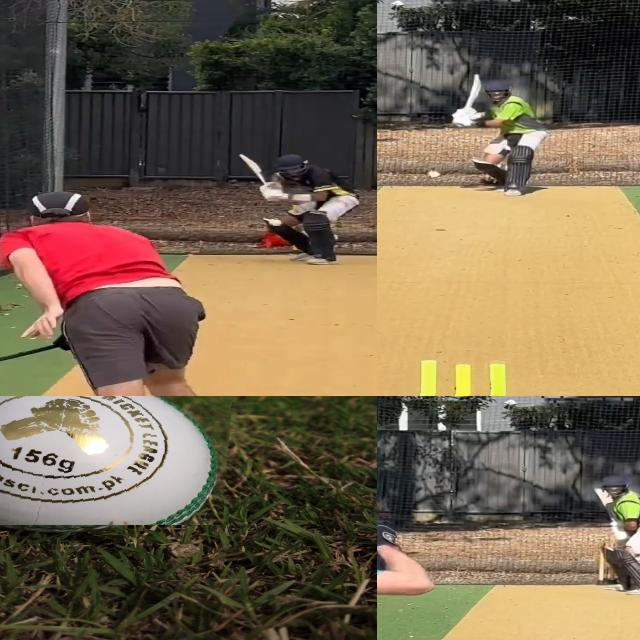Cricket ball: (0, 396, 233, 525), (426, 168, 442, 178), (268, 218, 283, 226)
Stumps: (403, 358, 530, 396)
